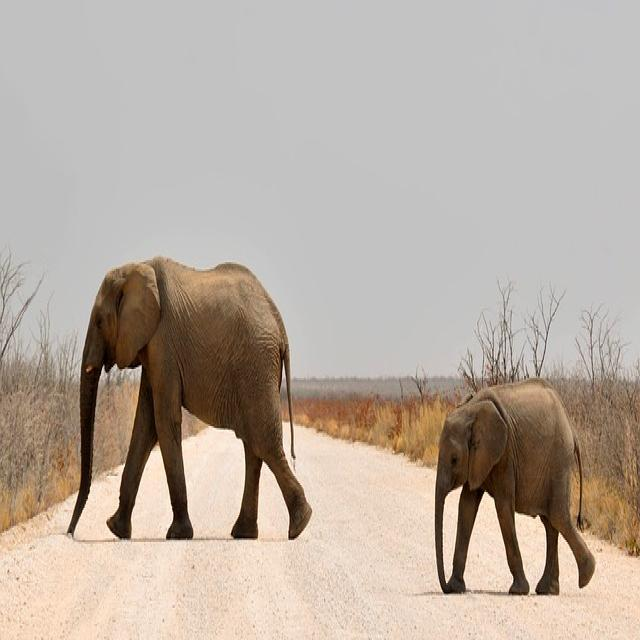elephant: (68, 256, 311, 539), (435, 379, 595, 594)
